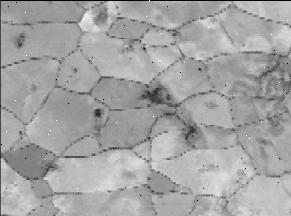good_void: (238, 52, 290, 128), (138, 81, 198, 140), (86, 4, 112, 29), (252, 134, 272, 158), (117, 40, 137, 58), (43, 159, 58, 171), (14, 33, 23, 45), (92, 105, 101, 116), (168, 29, 179, 38), (72, 65, 82, 74), (192, 64, 202, 73), (16, 127, 24, 136), (142, 44, 149, 51)
